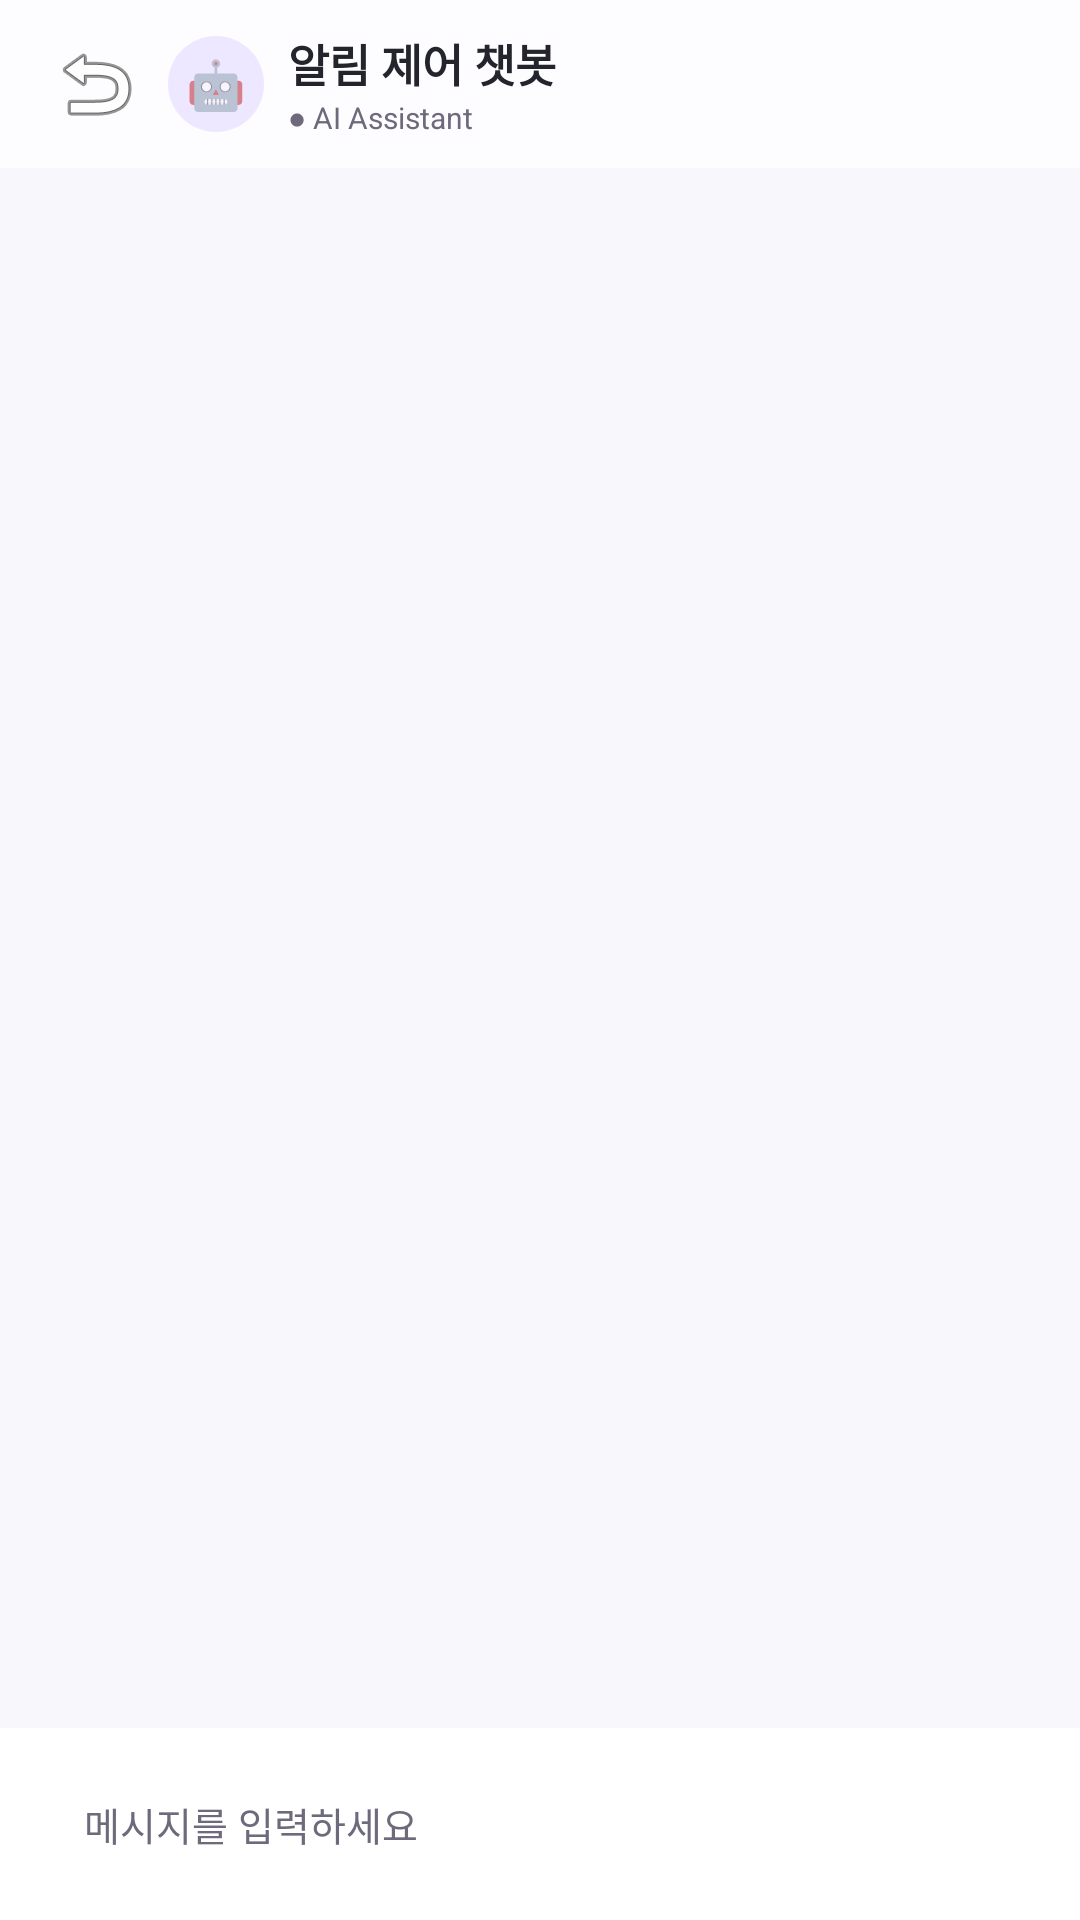

Where to tap for icons on this 1080px x 1920px app screen, as (x,y):
뒤로: (97,84)
